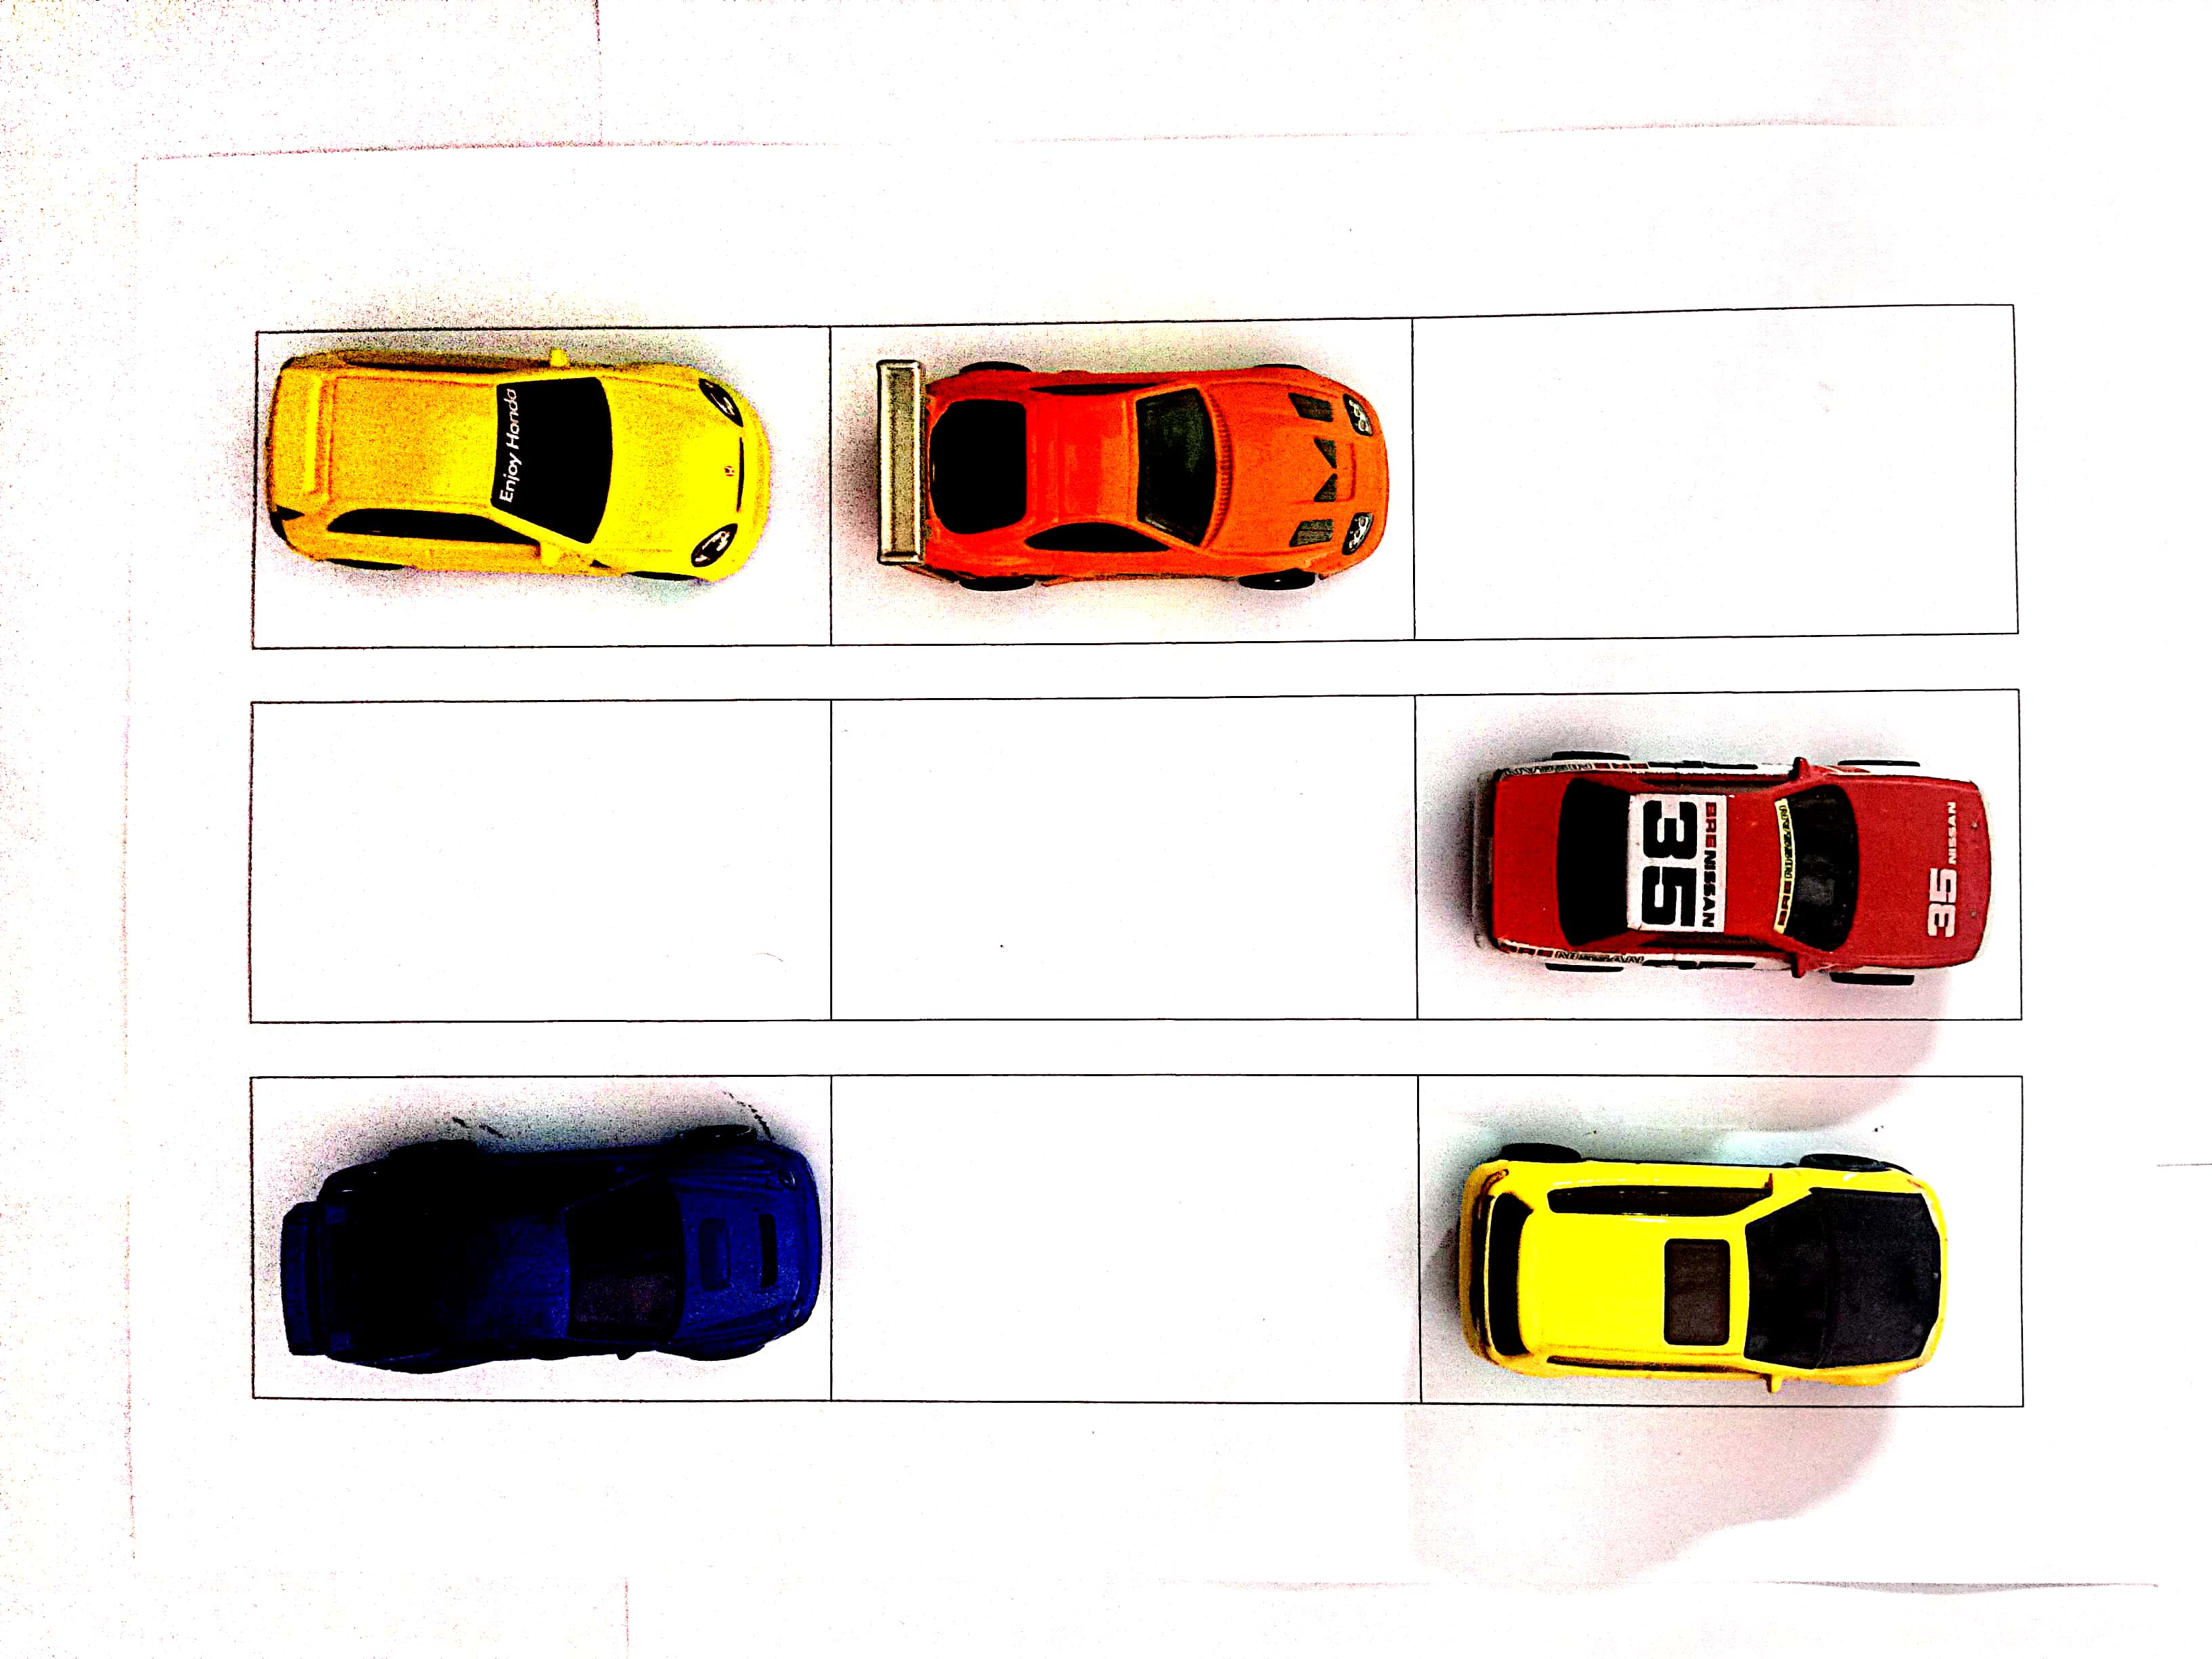Busy: (1423, 1077, 2026, 1405), (1418, 692, 2019, 1016), (827, 321, 1413, 638), (254, 1077, 834, 1394), (260, 336, 827, 650)
Free: (1413, 307, 2008, 643), (834, 1070, 1423, 1401), (833, 697, 1414, 1019), (249, 702, 833, 1019)
